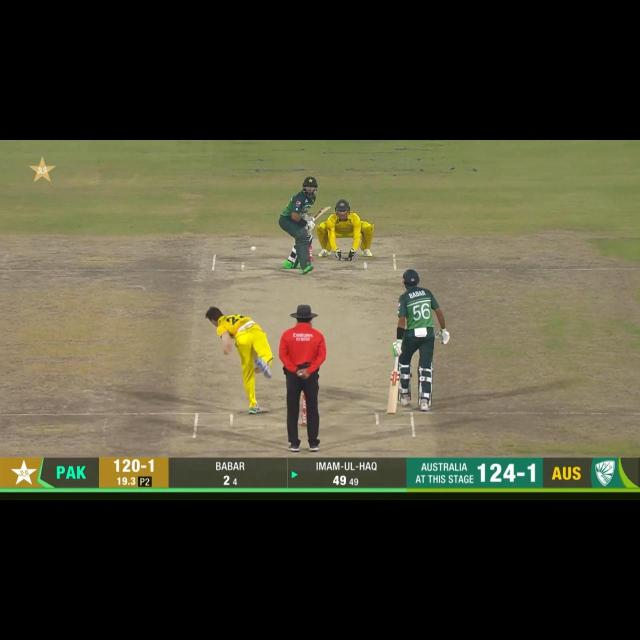bat: (387, 372, 402, 415), (310, 204, 331, 220)
toe: (385, 406, 398, 416), (321, 204, 332, 213)
